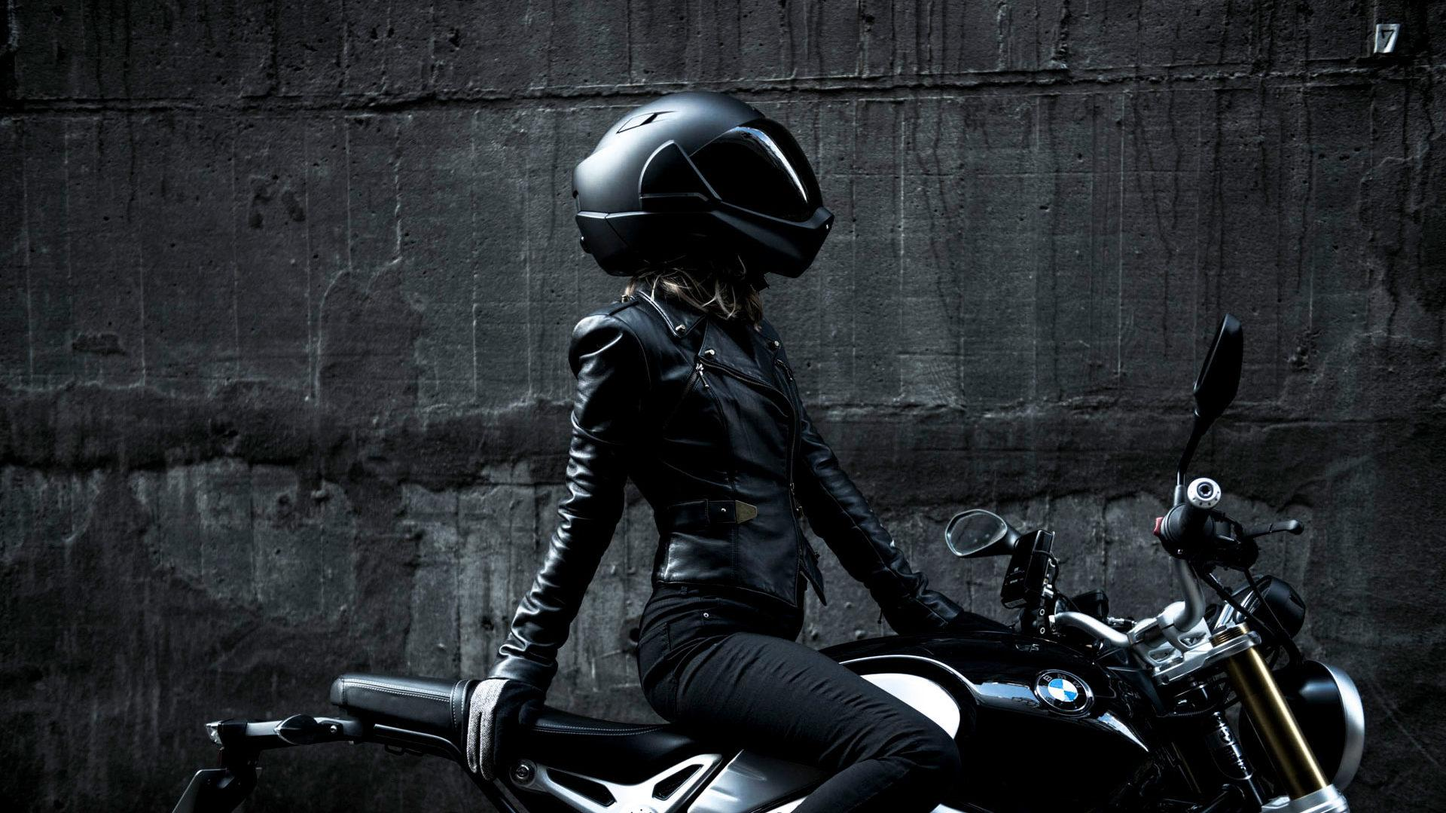helmet: (562, 69, 899, 381)
